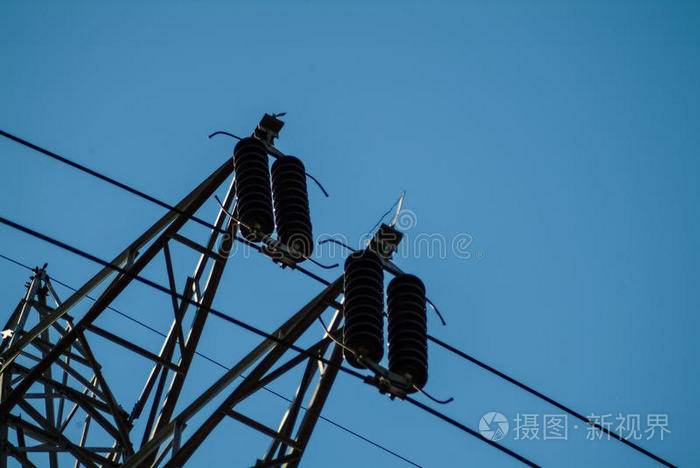insulator: (384, 274, 433, 389), (342, 251, 385, 365), (230, 138, 274, 239), (269, 155, 315, 248)
